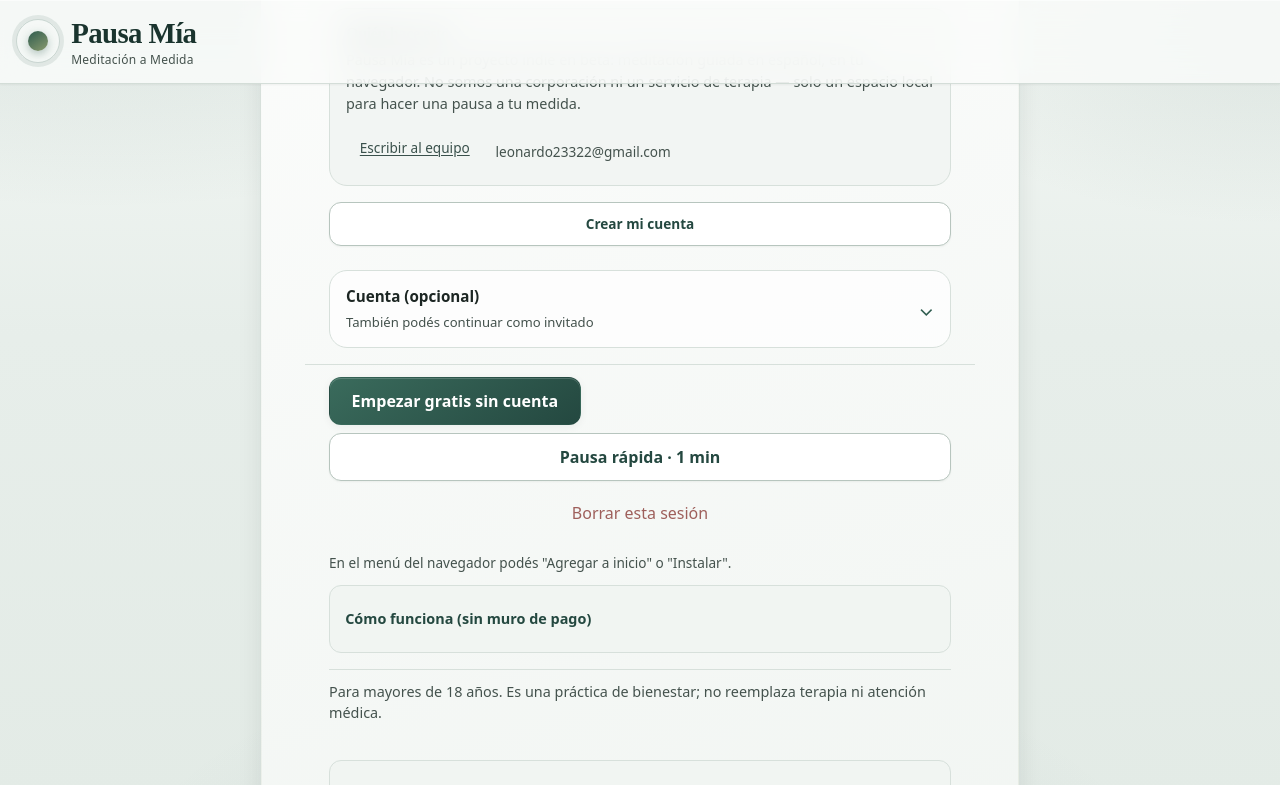
App flow › requires session processing consent before continuing
(page scrolled)
Click the button "Empezar gratis sin cuenta".
click(455, 401)  # box [329,377,581,425]
(page scrolled)
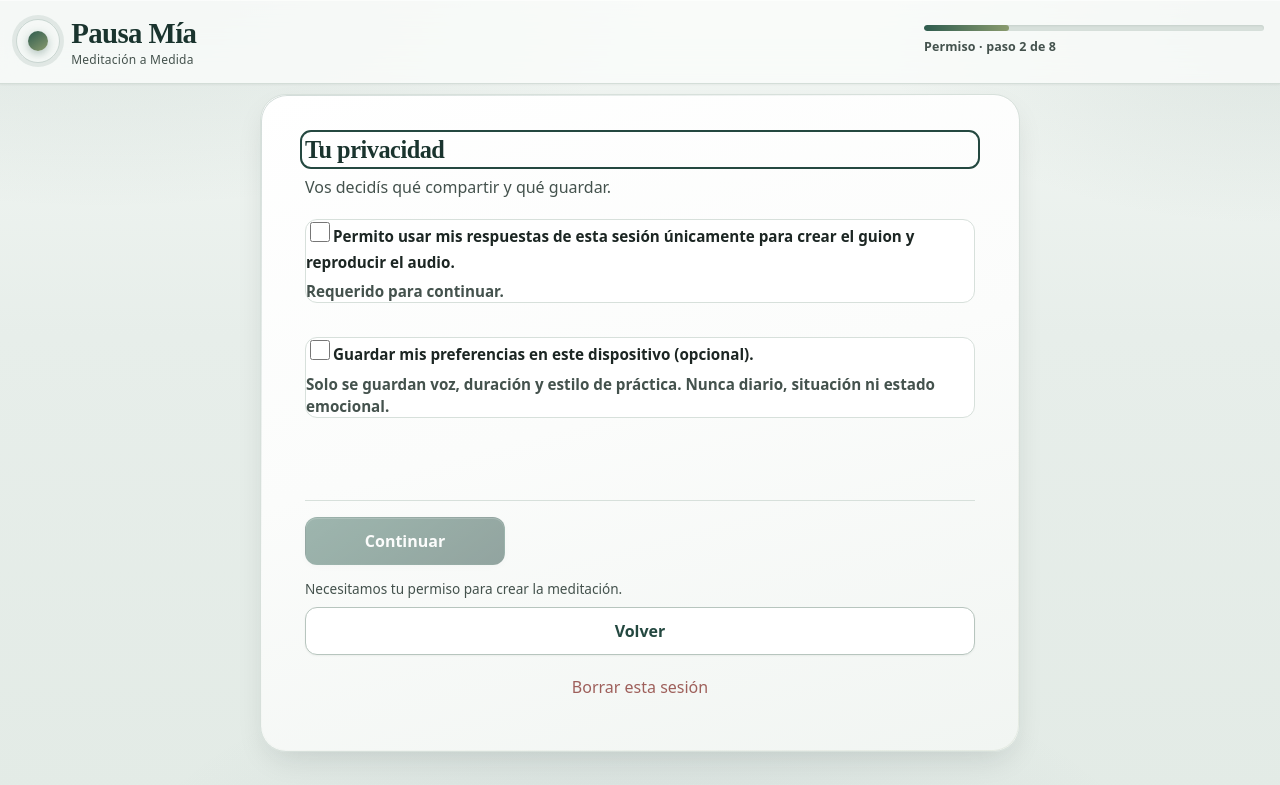
Expected: the button "Continuar" is disabled, [305,517,505,565]
Click the checkbox labelled "Permito usar mis respuestas de esta sesión únicamente".
click(320, 232)  # box [310,222,330,242]
(page scrolled)
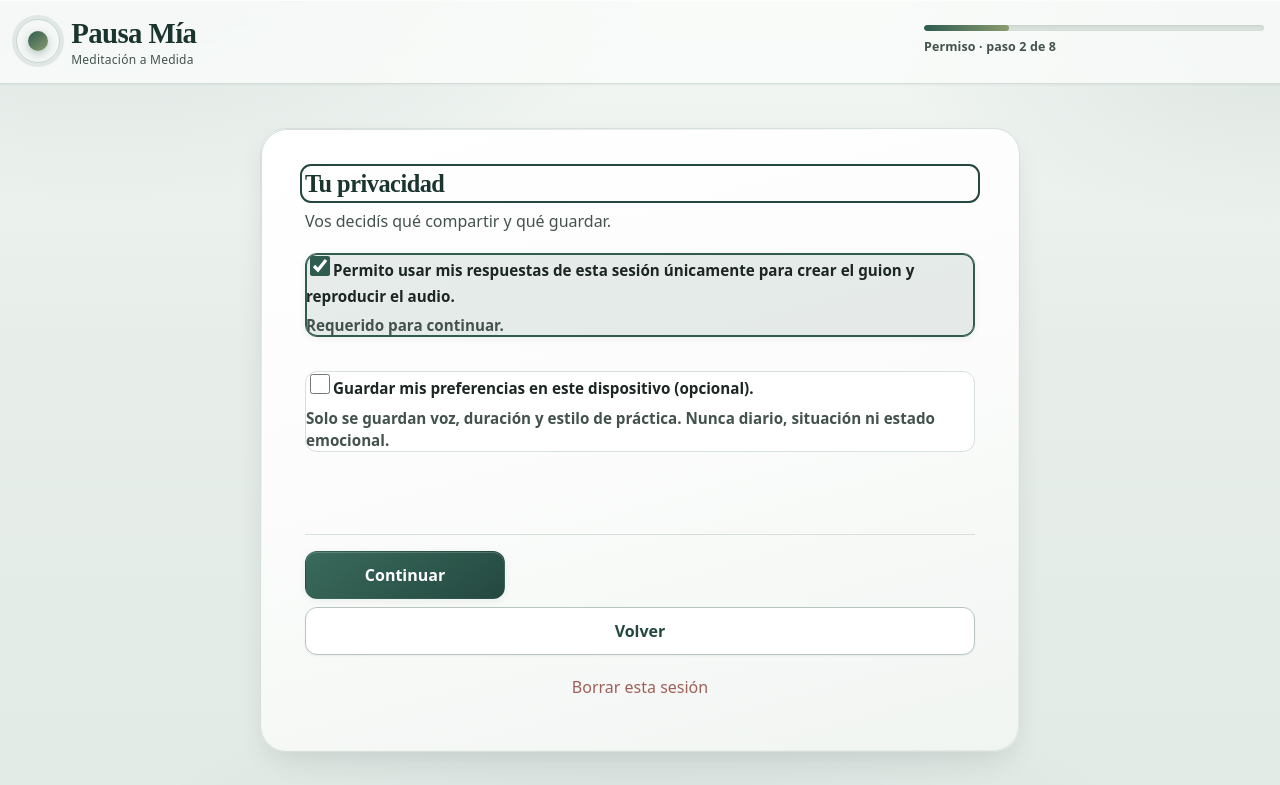
Expected: the button "Continuar" is enabled, [305,551,505,599]
